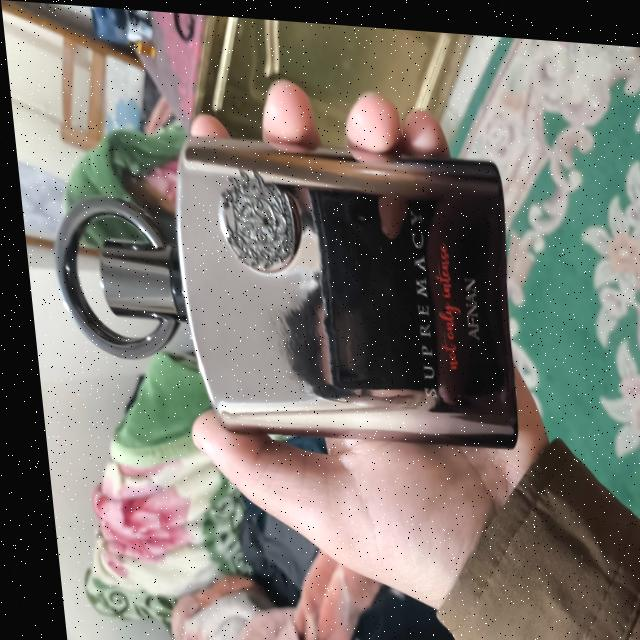Afnan: (35, 122, 521, 449)
